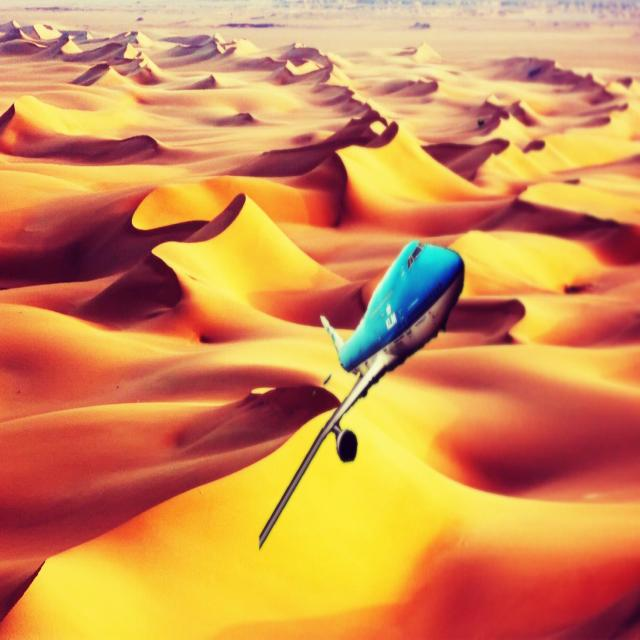airplane: (259, 238, 466, 548)
